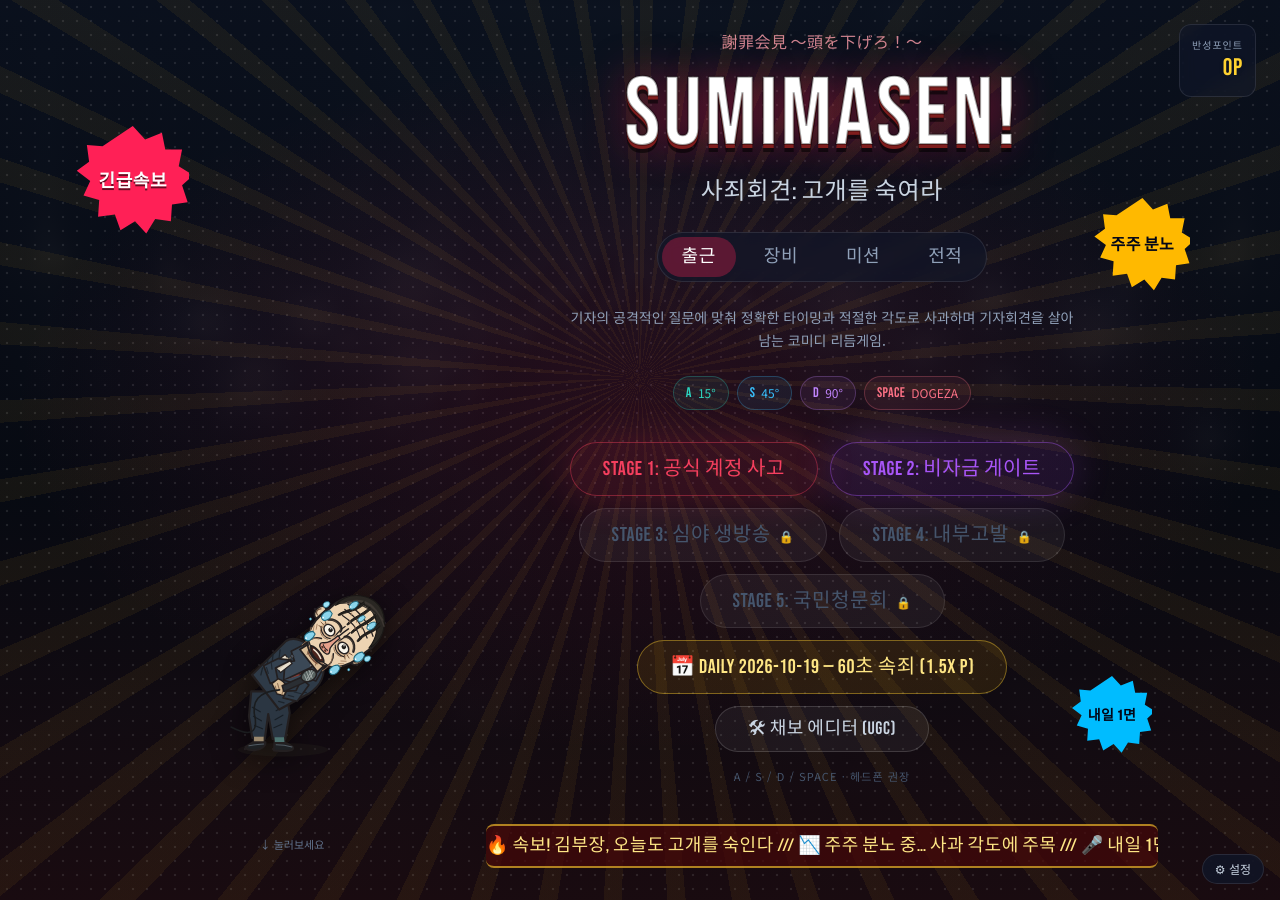
Test case: App 라우팅 › 홈으로 가면 타이틀로 돌아온다
This screenshot has width=1280, height=900.
Click the button "STAGE 1: 공식 계정 사고": (694, 468) top-left (570, 442), bottom-right (818, 496)
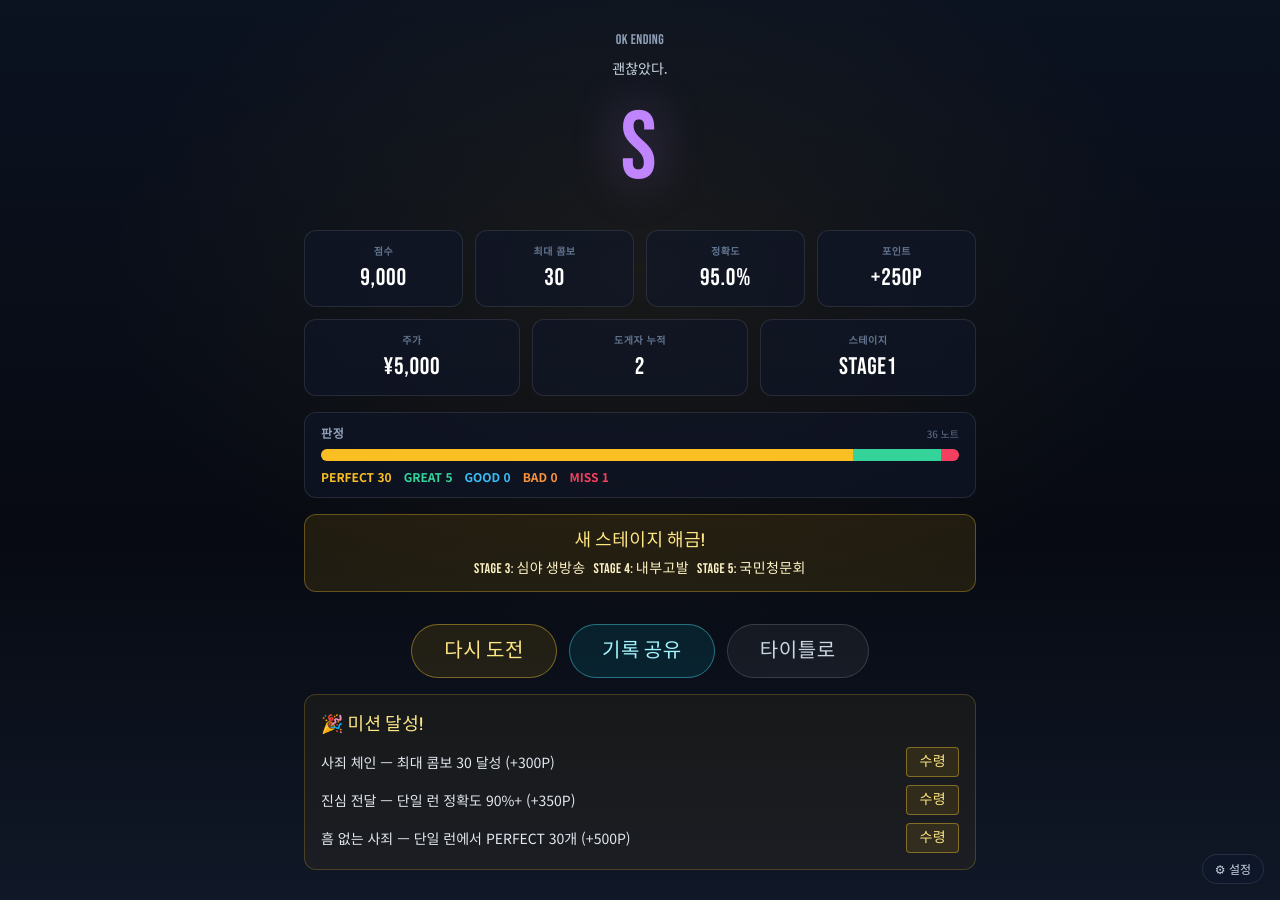
Click the button "타이틀로": (798, 651) top-left (727, 624), bottom-right (869, 678)
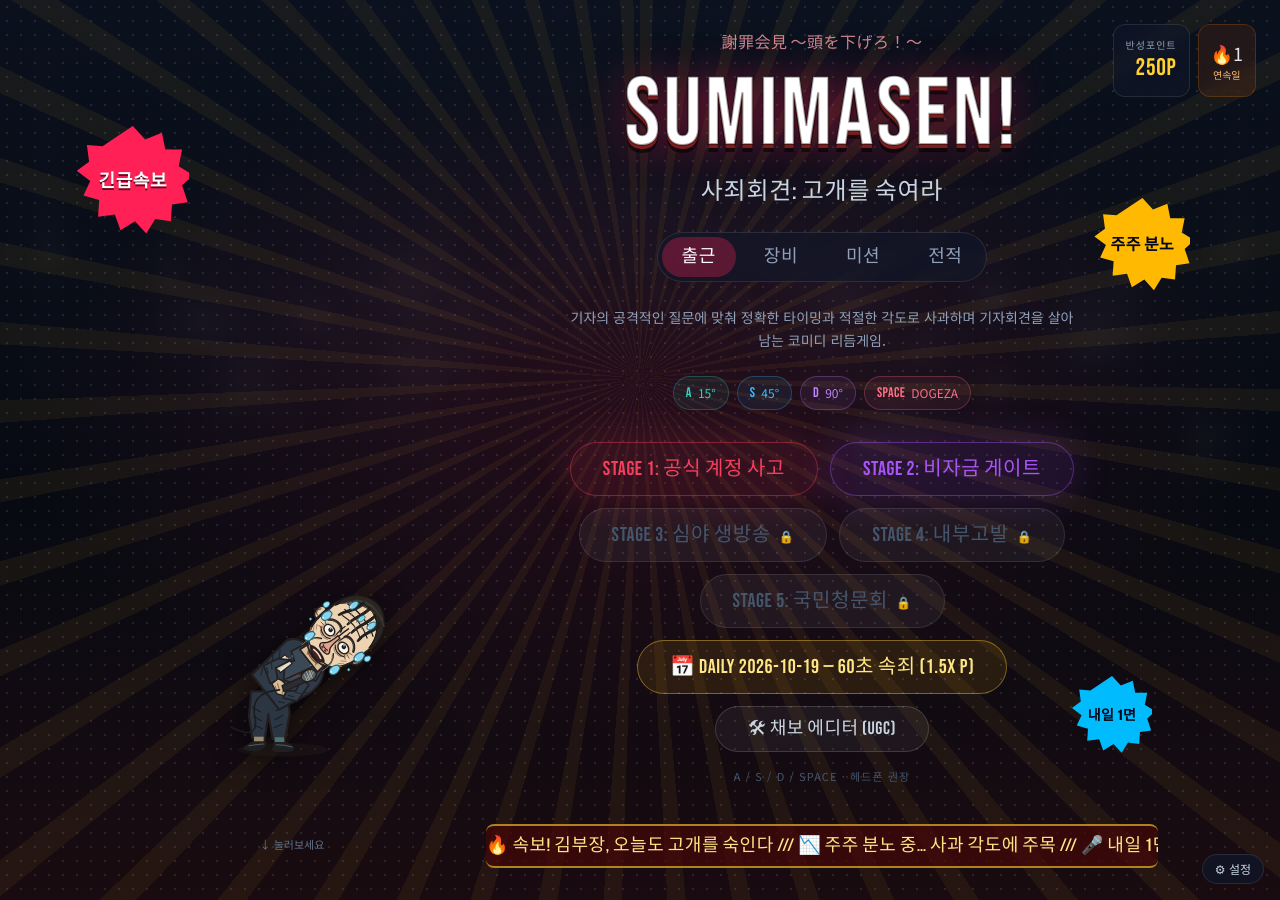
Result: the button "STAGE 1: 공식 계정 사고" is shown at top-left (570, 442), bottom-right (818, 496)
